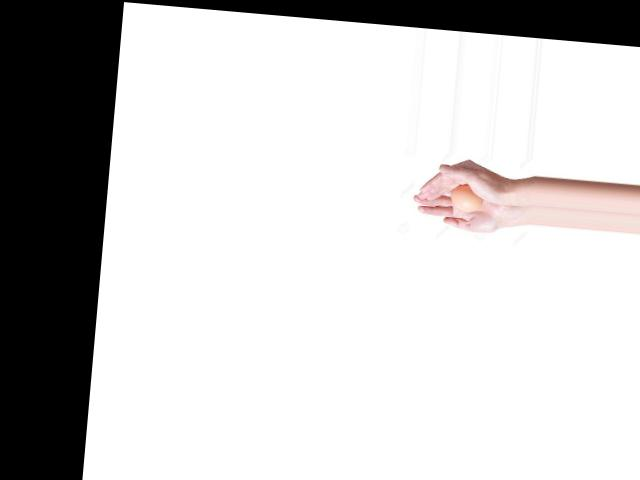egg: (450, 183, 482, 211)
